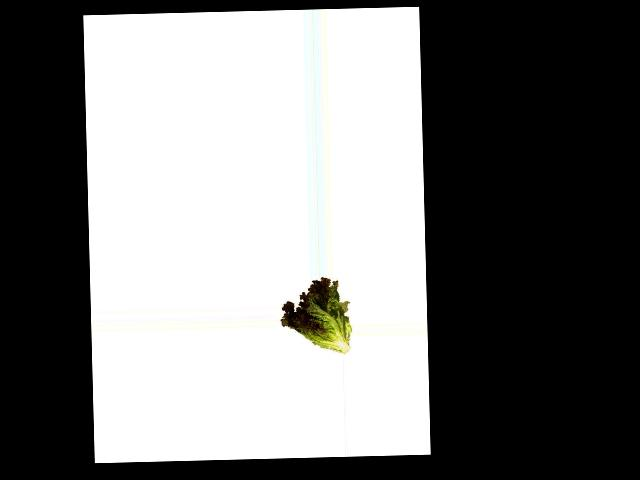lettuce: (280, 276, 351, 354)
